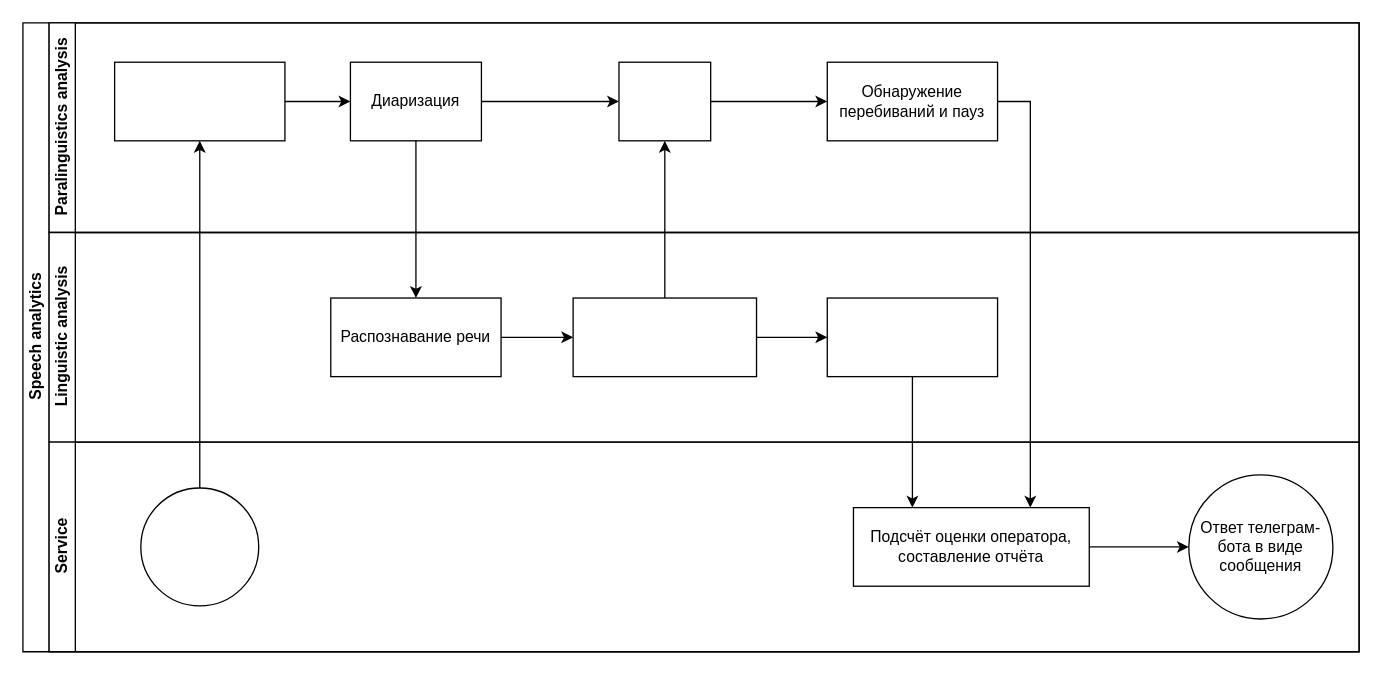
The diagram is 1382 pixels wide and 675 high, and some of its shapes have lost their labels. The shapes that lost their labels are listed below. From the top down, each one's centre as x and y in pixels, then its label:
(199,101): Шумоподавление
(664,101): VAD
(664,337): Определение принадлежности каналов
(912,337): Обнаружение обязательных и запрещённых фраз
(199,546): WAV (mono/stereo)
